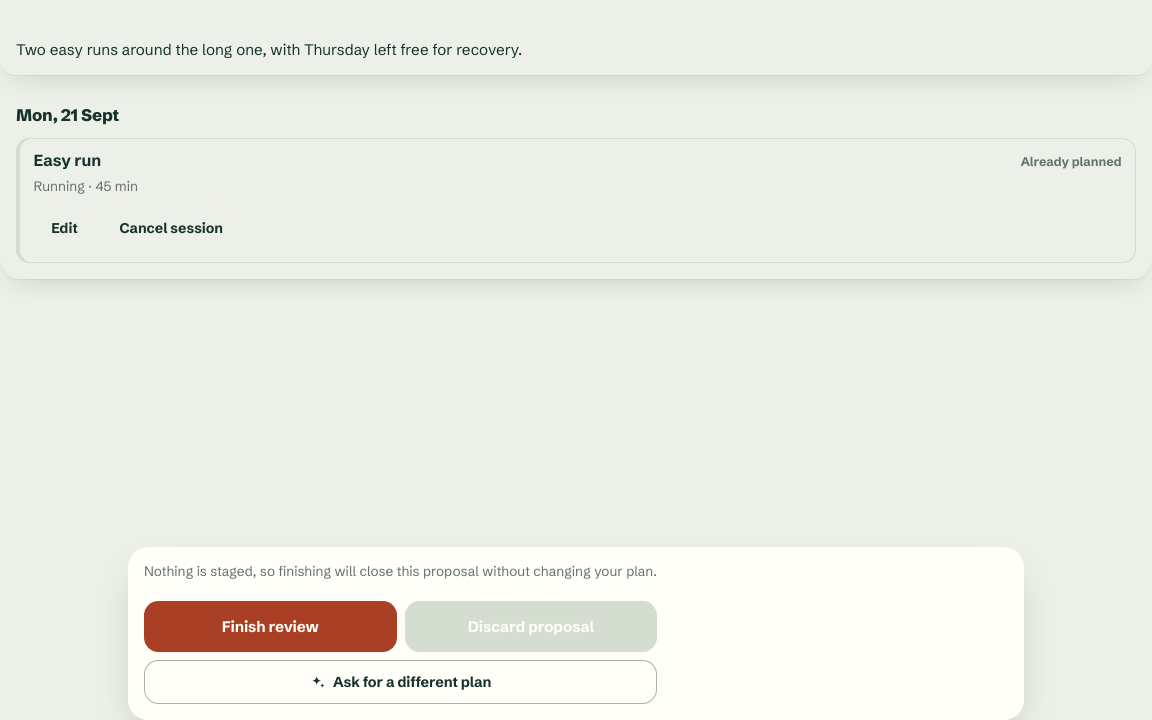
Scenario: open memory suggestions before the review ends (owner, 19 Oct 2026) › asks once before finishing, and lets the owner go on
The image size is (1152, 720).
Click the button "Finish review". click: (270, 626)
box: 144,601 -> 397,652
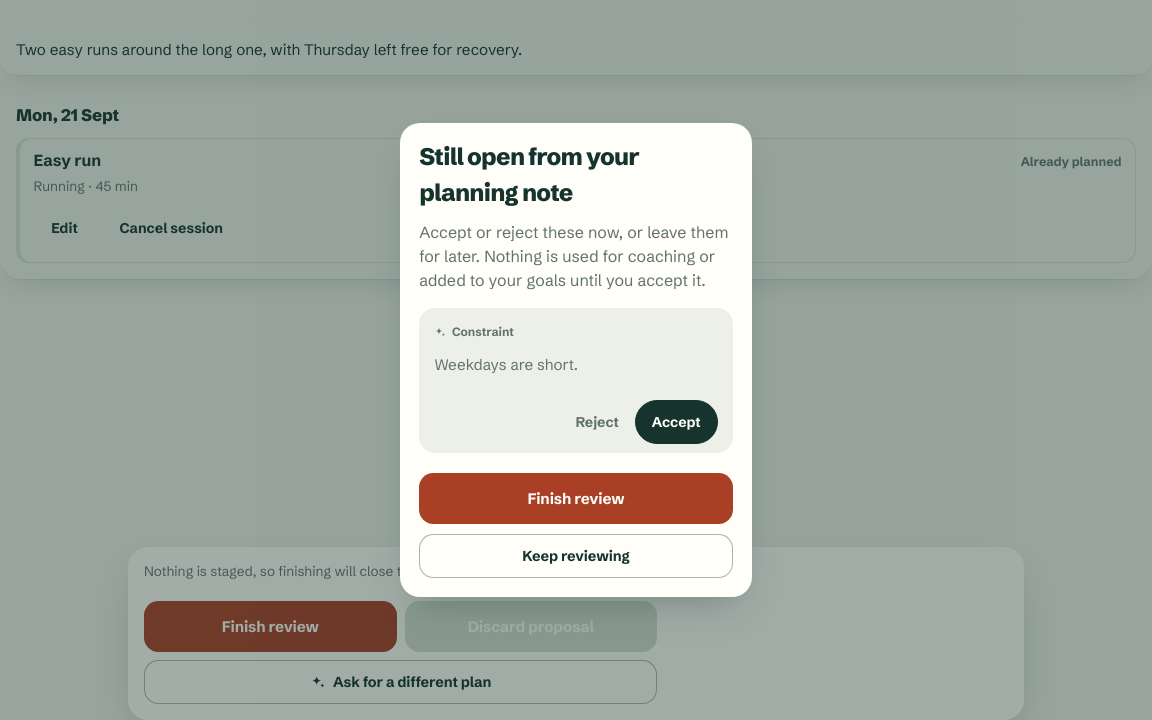
expect the text "Weekdays are short." is shown: met, box 434,355 -> 578,374
expect the button with aria-label "Reject: Weekdays are short." is shown: met, box 569,400 -> 625,444
Click the button "Keep reviewing". click: (576, 556)
box: 419,534 -> 733,578
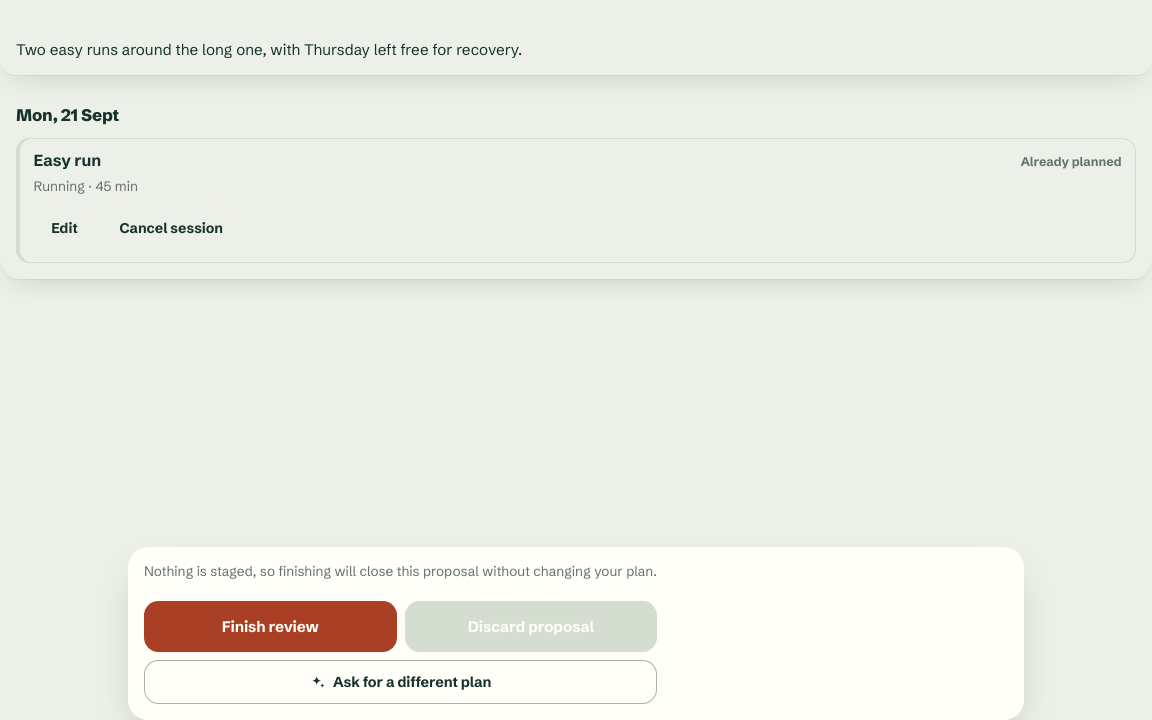
expect the dialog is gone: met
